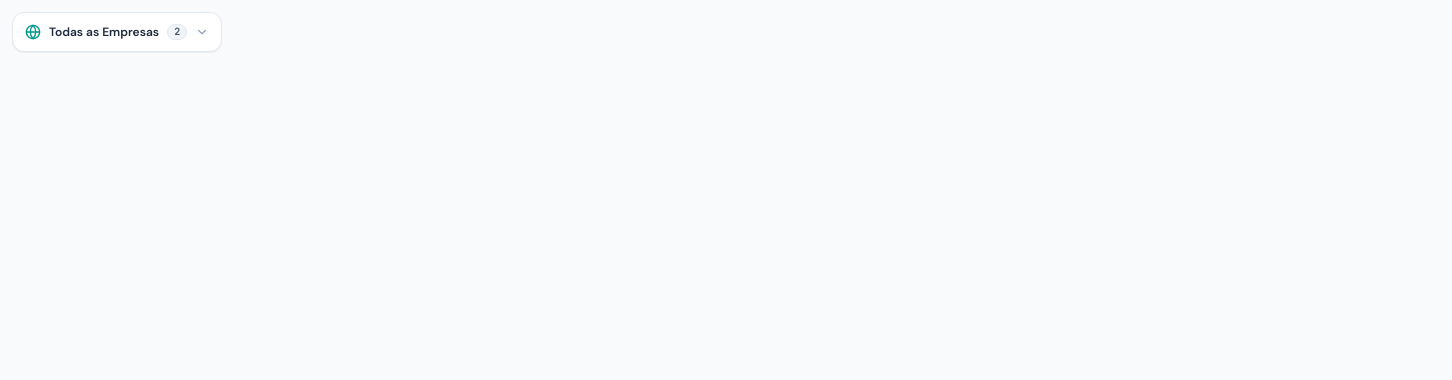
CompanySelector › triggers onManageCompanies when clicking manage shortcut link
Click the button with test id "company-selector-trigger".
click(117, 32)  # box [12,12,222,52]
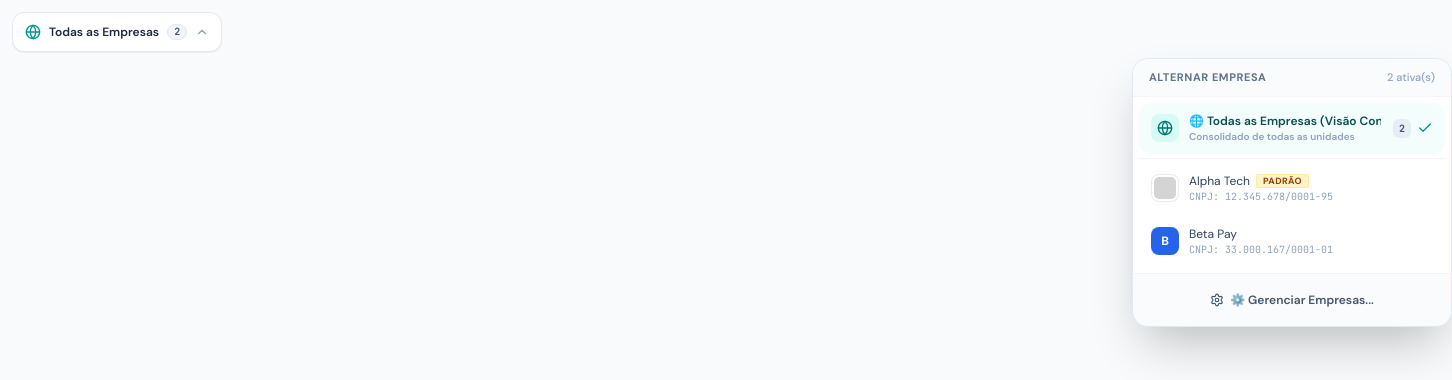
Click the button with test id "manage-companies-shortcut".
click(1292, 300)  # box [1141,282,1443,318]
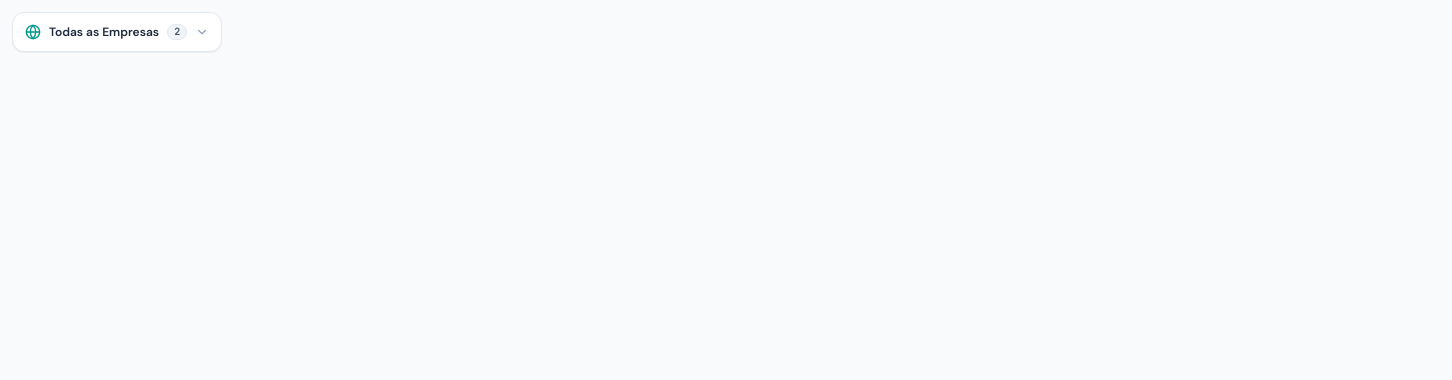
expect the list with test id "company-selector-dropdown" is gone: met
